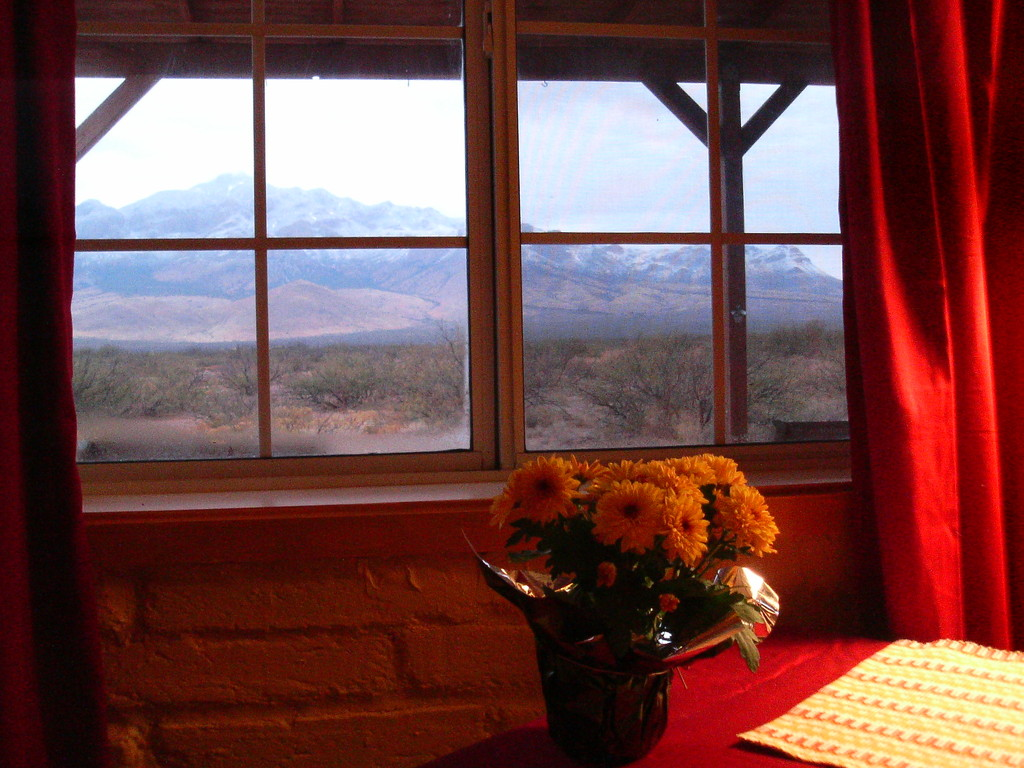Window: (0, 0, 916, 557)
